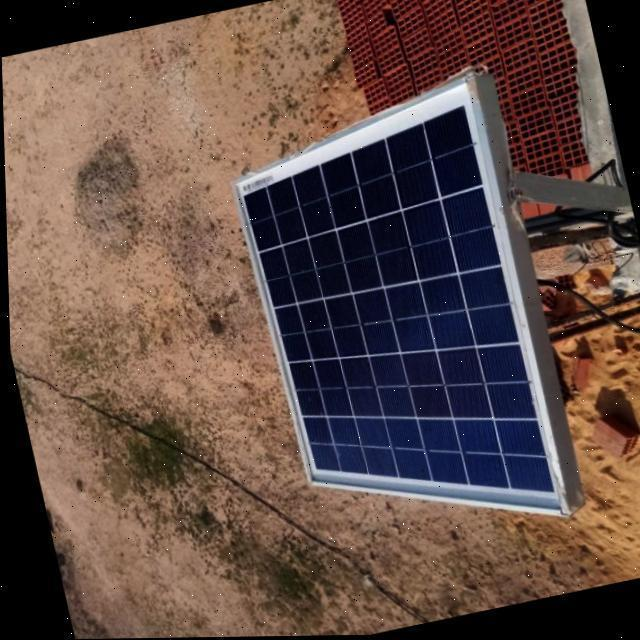Normal Solar Panel: (220, 76, 570, 567)
